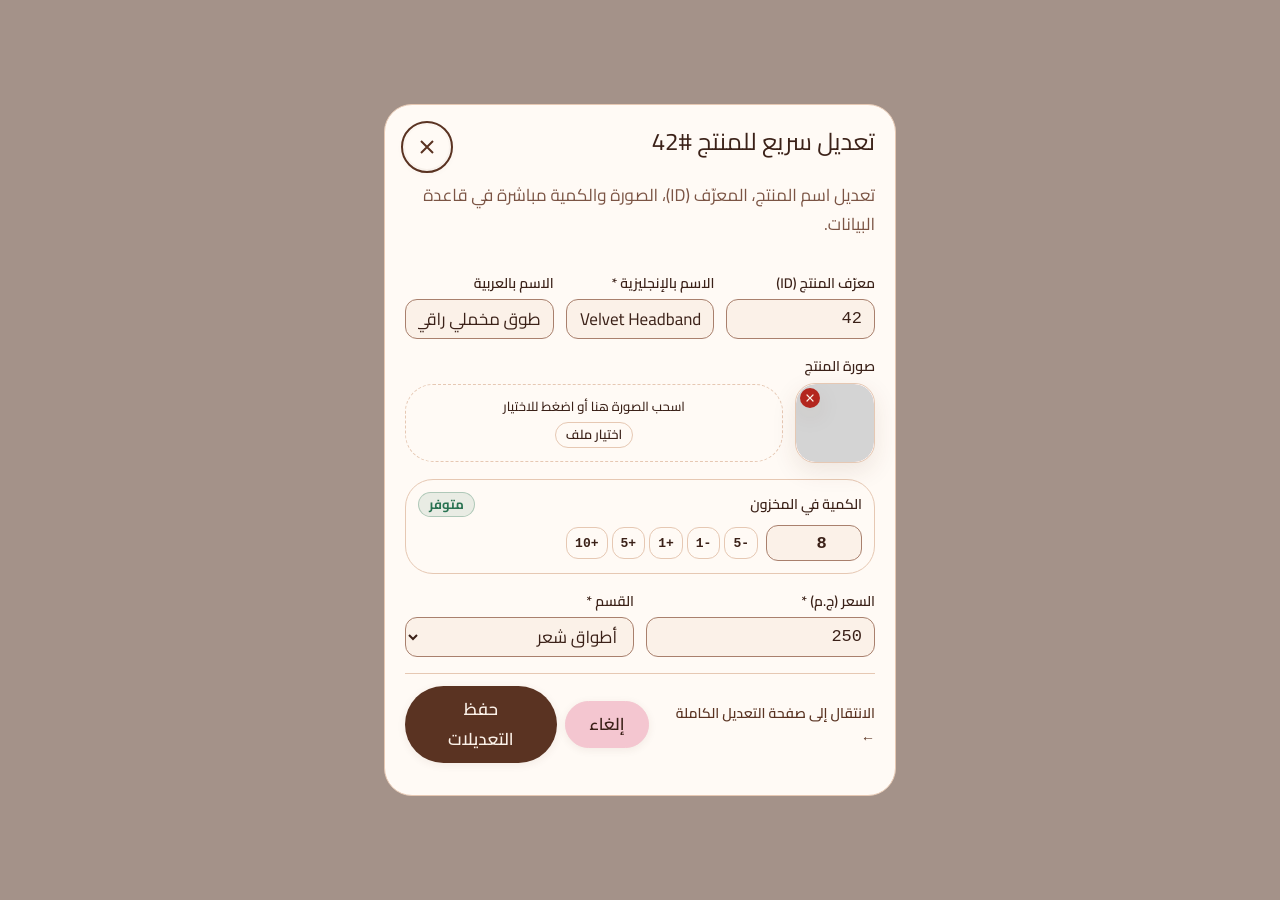
Test: Easy UI: Quick Product Edit & Add Modals › QuickProductEditModal › allows adjusting stock quantity with quick delta buttons
Click the button "+5": (628,543) [612,527,645,559]
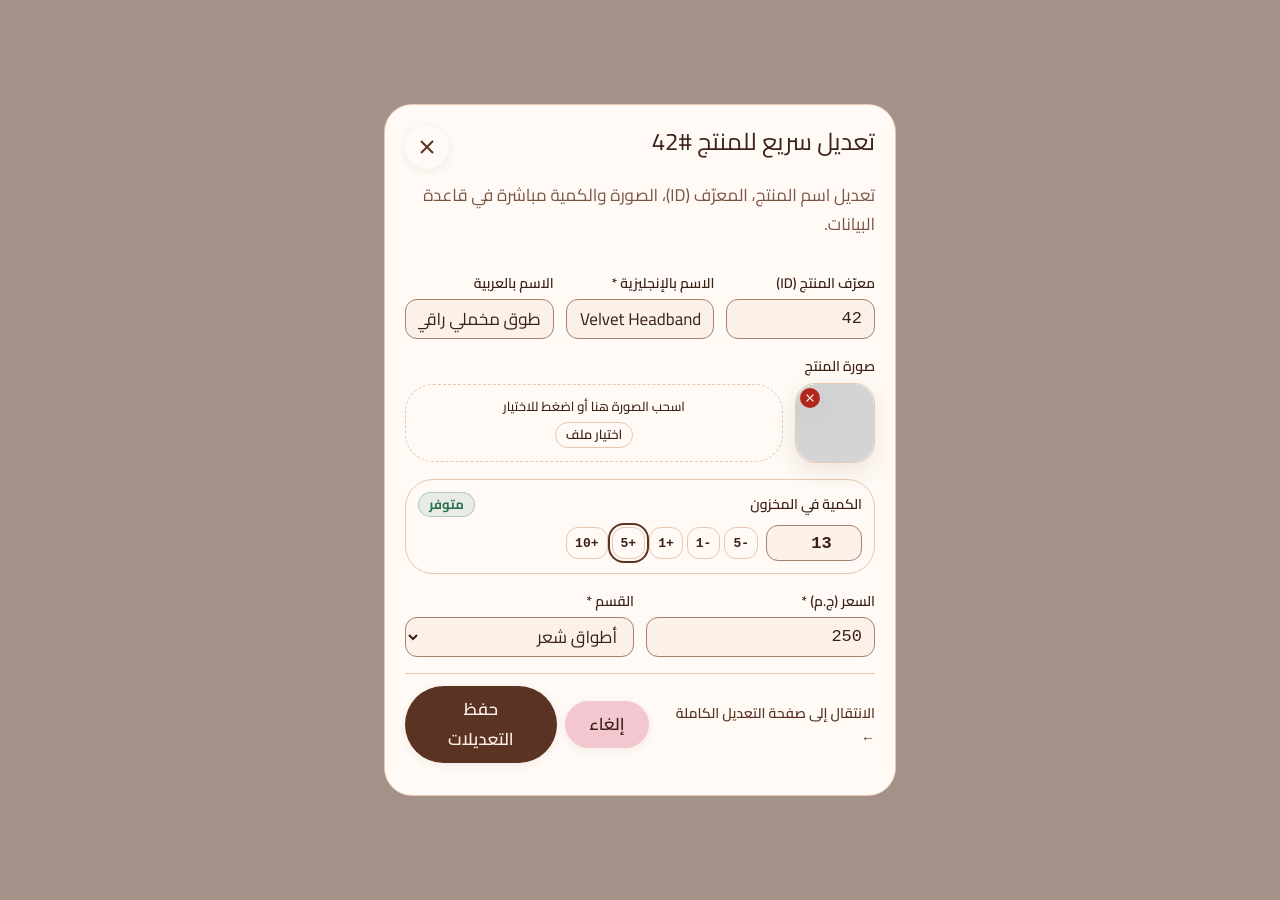
Expected: the number field showing "13" is shown, [766,525,862,561]
Click the button "-1": (704,543) [687,527,720,559]
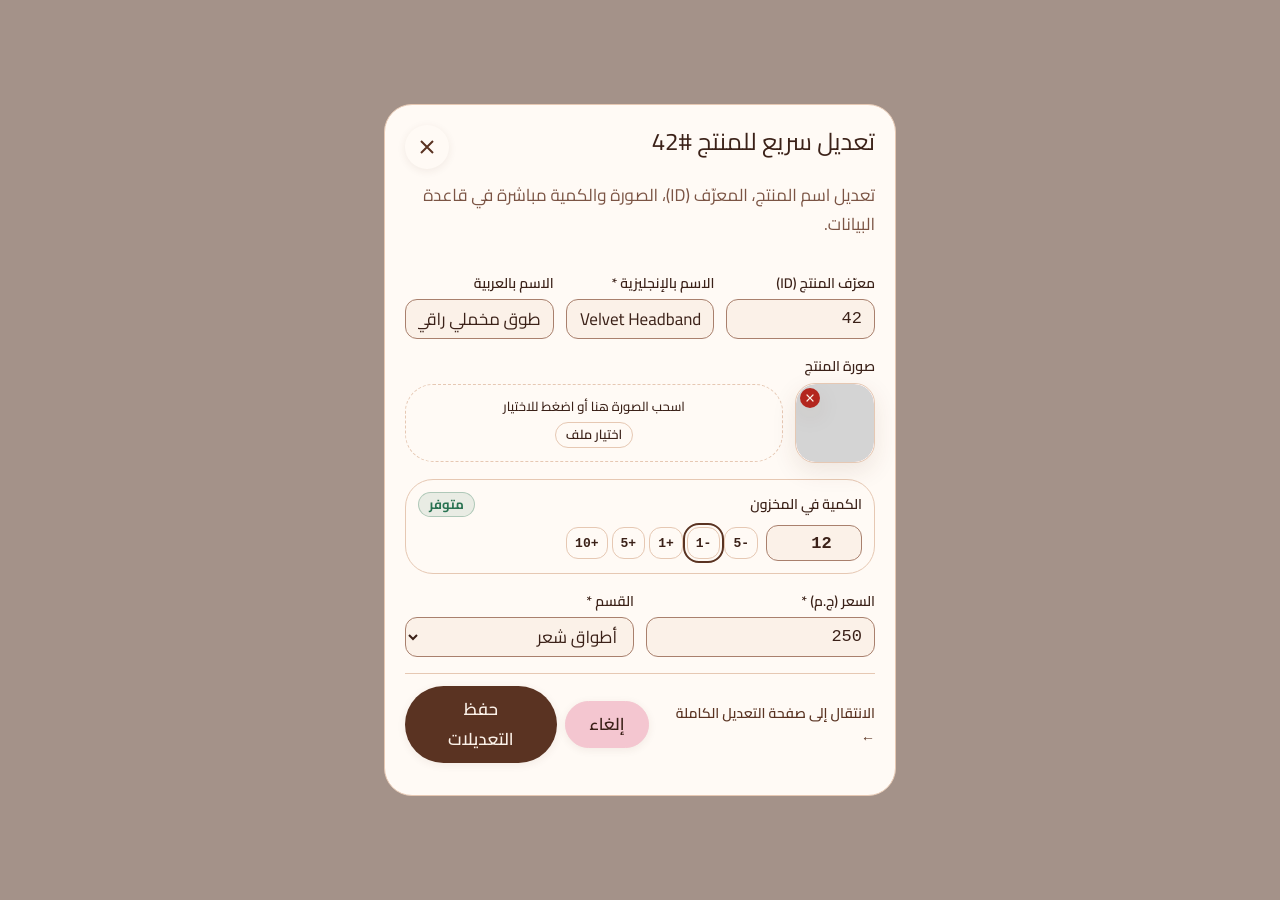
Expected: the number field showing "12" is shown, [766,525,862,561]
